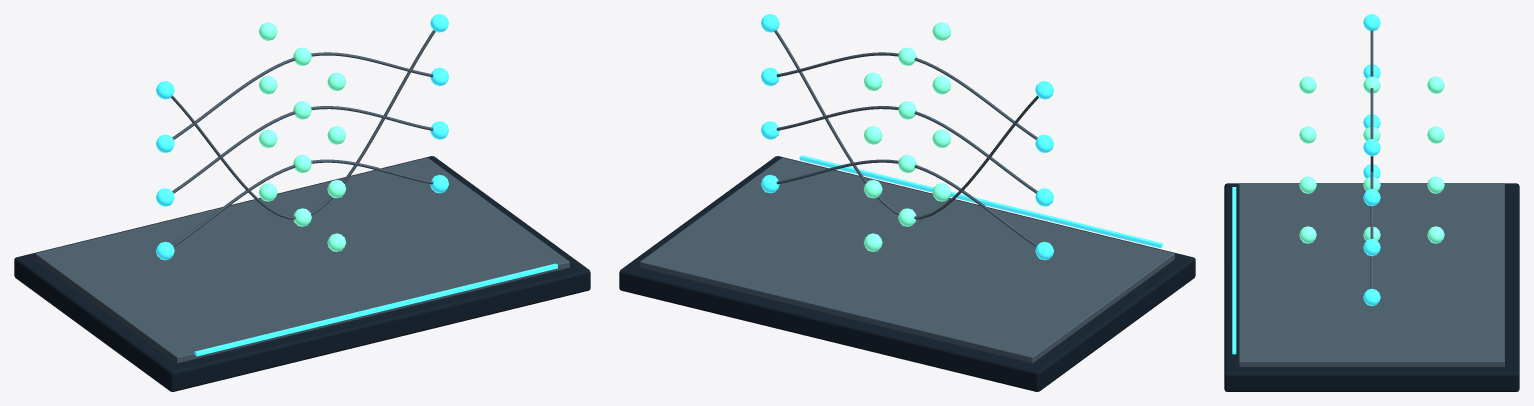
The model's file is mlp-lattice.glb.
3 renders of one model, left to right at view 1: azimuth 30°, elevation 25°; view 2: azimuth 150°, elevation 25°; view 3: azimuth 270°, elevation 25°, orthographic. The views are drawn at different scales.
Parts seen in each view (by area): view 1: inlay, base, status_strip, demo_connection_3, demo_connection_1, demo_connection_0, demo_connection_2; view 2: inlay, base, status_strip, demo_connection_3, demo_connection_1, demo_connection_0, demo_connection_2; view 3: inlay, base, status_strip, demo_connection_2.
Part boxes in pixels (x1,y1,x2,y2): inlay: [35, 157, 569, 363]; base: [14, 156, 590, 391]; status_strip: [194, 263, 557, 356]; demo_connection_3: [171, 30, 435, 219]; demo_connection_1: [172, 106, 433, 193]; demo_connection_0: [172, 159, 433, 246]; demo_connection_2: [172, 52, 433, 139]; inlay: [640, 157, 1174, 363]; base: [619, 156, 1195, 391]; status_strip: [799, 155, 1162, 247]; demo_connection_3: [774, 30, 1038, 219]; demo_connection_1: [776, 106, 1037, 193]; demo_connection_0: [776, 159, 1037, 246]; demo_connection_2: [776, 52, 1037, 139]; inlay: [1239, 183, 1504, 367]; base: [1224, 183, 1519, 391]; status_strip: [1232, 187, 1236, 354]; demo_connection_2: [1370, 71, 1373, 188].
Size of the model in its own units: 4.6 by 2.47 by 3.
